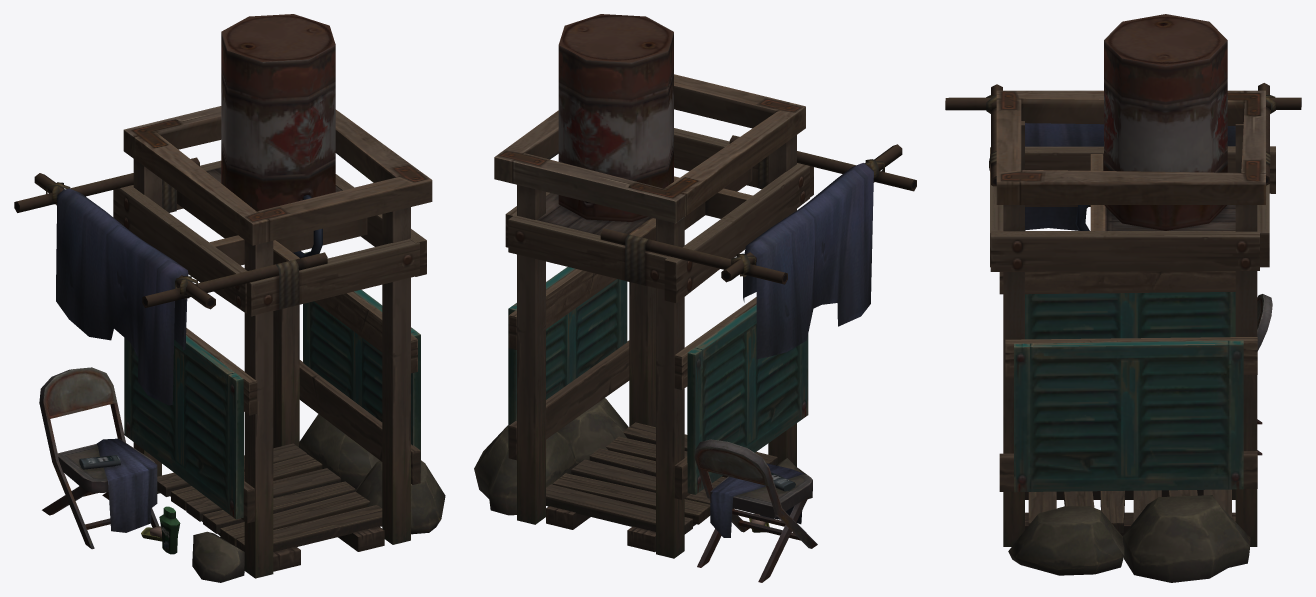
Rendered from Shower.FBX.
3 renders of one model, left to right at view 1: azimuth 30°, elevation 25°; view 2: azimuth 150°, elevation 25°; view 3: azimuth 270°, elevation 25°, orthographic. The views are drawn at different scales.
Parts seen in each view (by area): view 1: Shower; view 2: Shower; view 3: Shower.
Part boxes in pixels (bbox=[...]): Shower: bbox=[14, 14, 445, 582]; Shower: bbox=[474, 14, 916, 582]; Shower: bbox=[945, 14, 1301, 582].
Size of the model in its own units: 2.81 by 3.64 by 2.41.
Materials: 1 (1 with a texture image).
